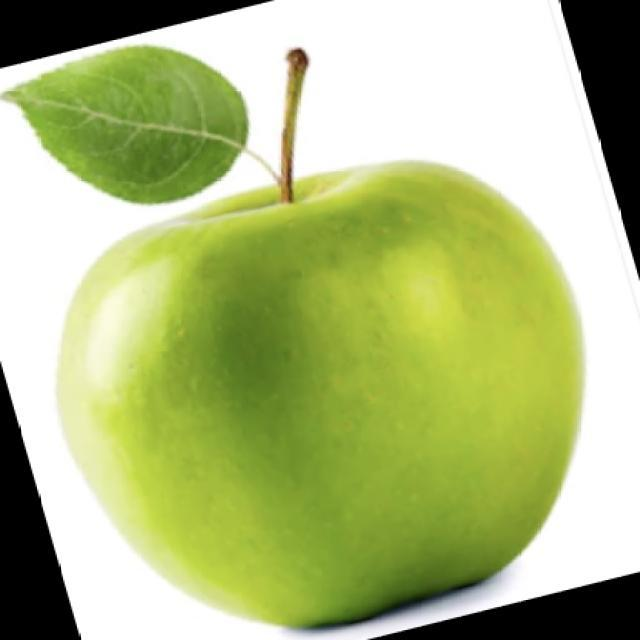Fresh Apple: (75, 168, 578, 628)
